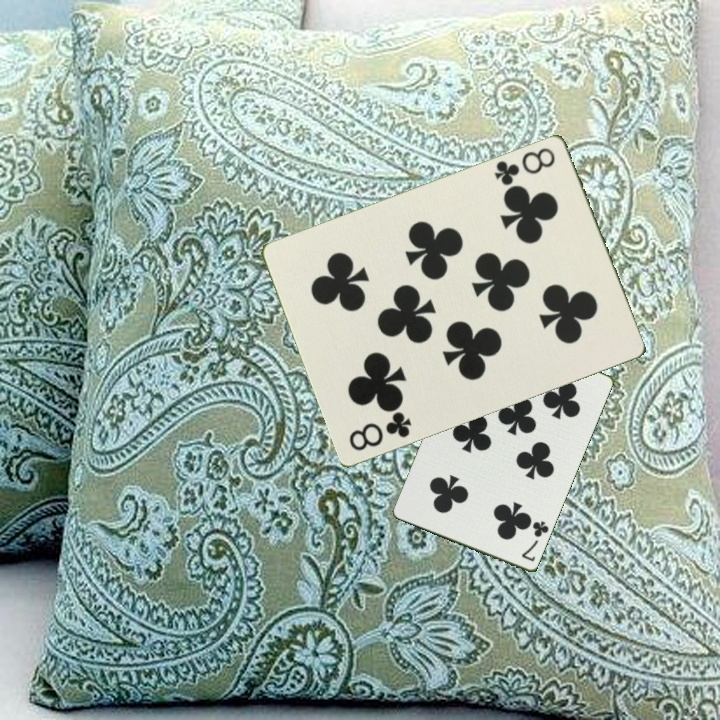7c: (518, 517, 552, 565)
8c: (345, 408, 415, 454), (490, 143, 559, 188)
